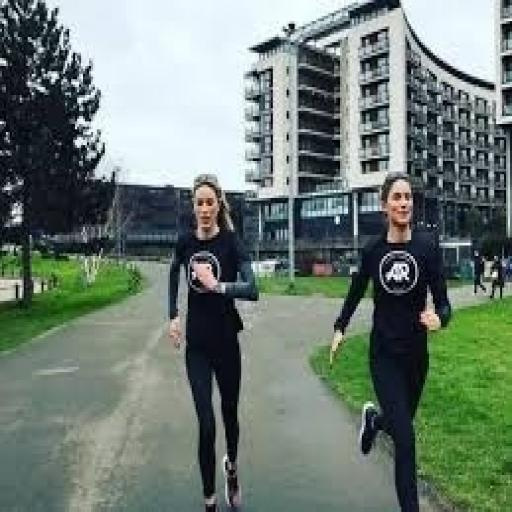running: (326, 169, 455, 509), (164, 172, 261, 510)
